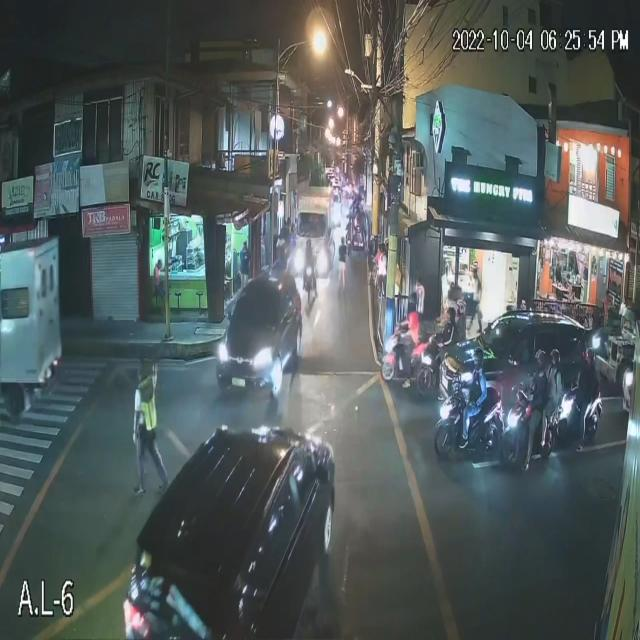Full-Faced: (405, 286, 419, 316), (546, 347, 562, 373), (533, 347, 547, 372), (472, 347, 486, 371), (454, 296, 467, 318)
Half-Faced: (445, 305, 456, 324)
